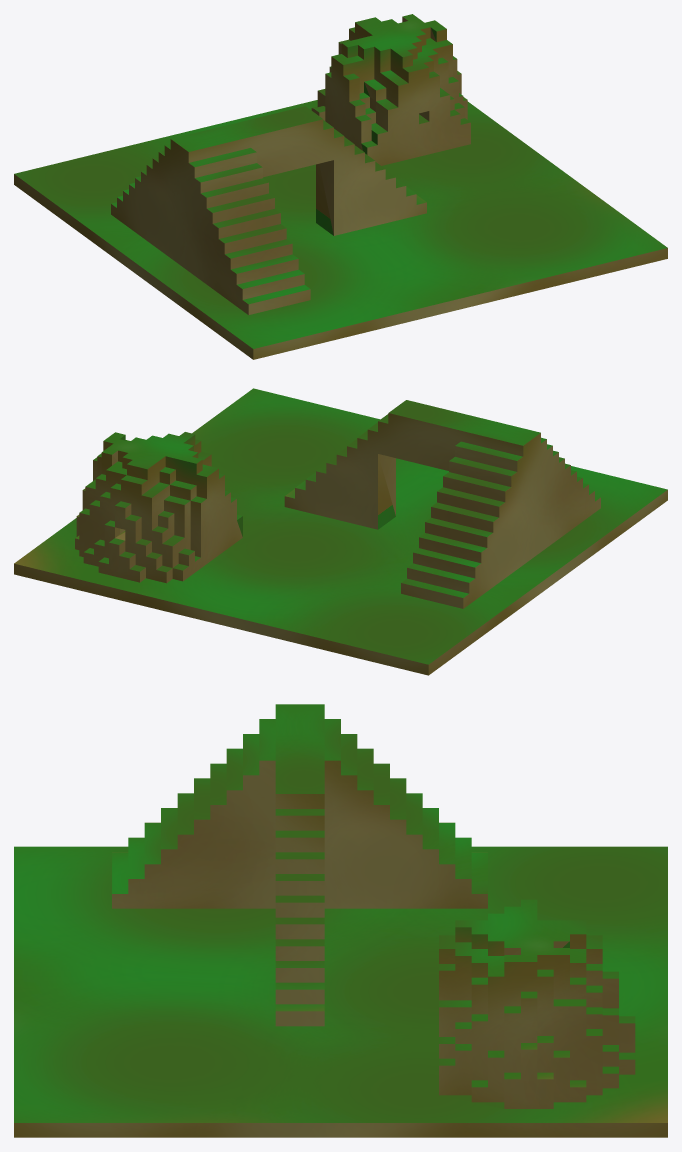
The model's file is level.glb.
3 views of the same model, one above another, from view 1: azimuth 30°, elevation 25°; view 2: azimuth 150°, elevation 25°; view 3: azimuth 270°, elevation 25° (orthographic). The views are drawn at different scales.
Visible parts, largest first — view 1: level; view 2: level; view 3: level.
Part boxes in pixels (x1=…): level: x1=14, y1=14, x2=667, y2=359; level: x1=14, y1=388, x2=667, y2=675; level: x1=14, y1=704, x2=667, y2=1137.
Size of the model in its own units: 40 by 12 by 40.
1 material, 1 textured.
